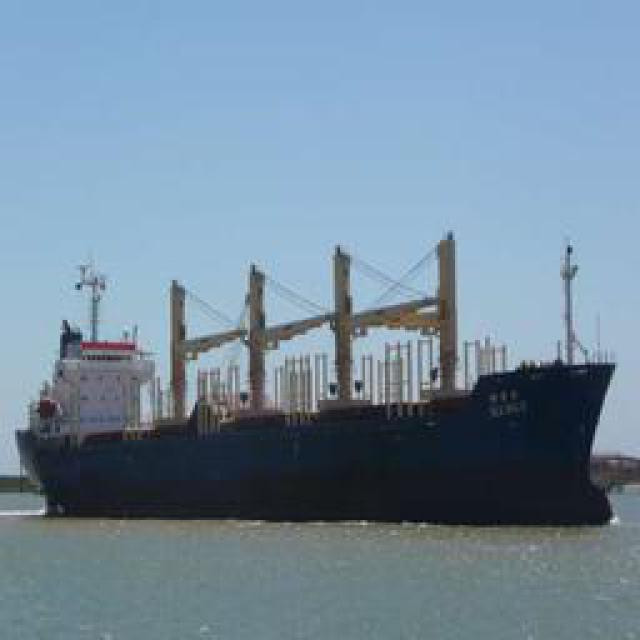Ship: (30, 242, 625, 522)
